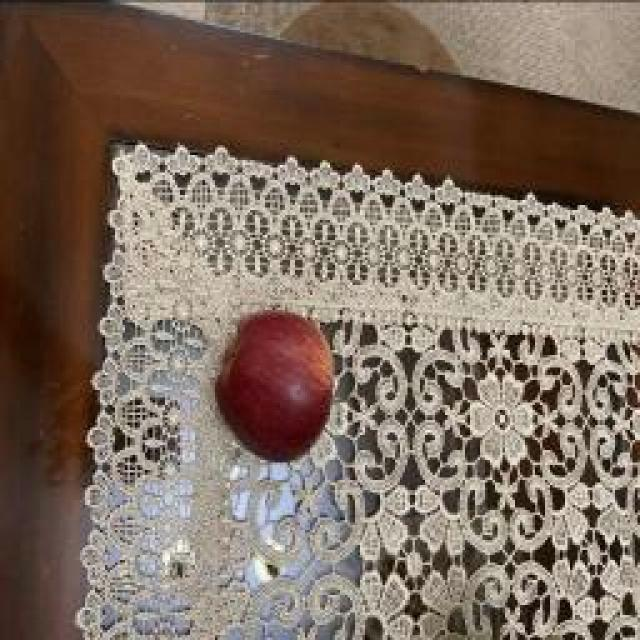apple: (215, 310, 332, 461)
